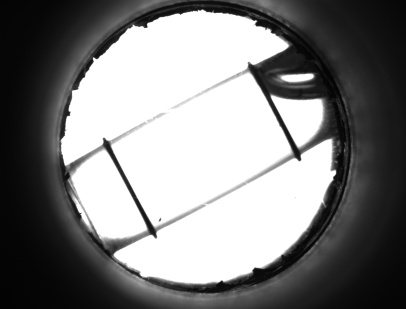line: (110, 164, 153, 214), (265, 108, 298, 140)
